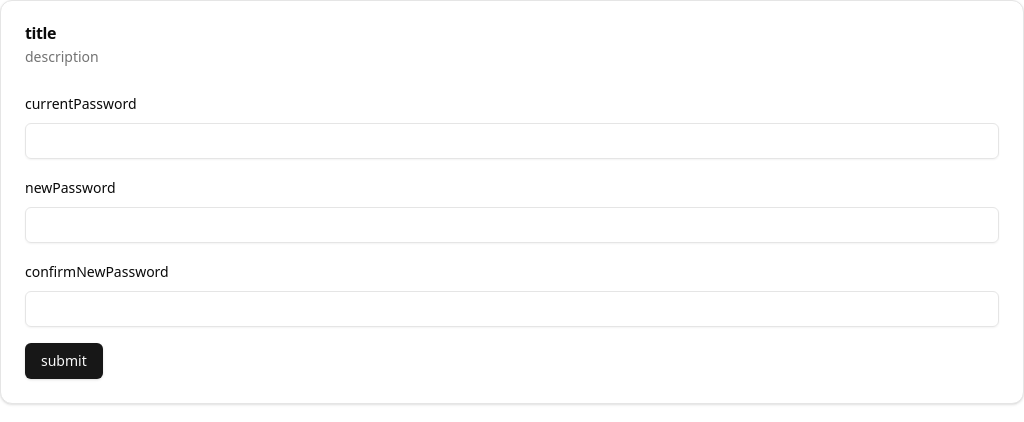
Test: PasswordForm › disables submit button while loading
Type "OldPass1!" into the password field labelled "currentPassword" at (512, 141), box [25,123,999,159]
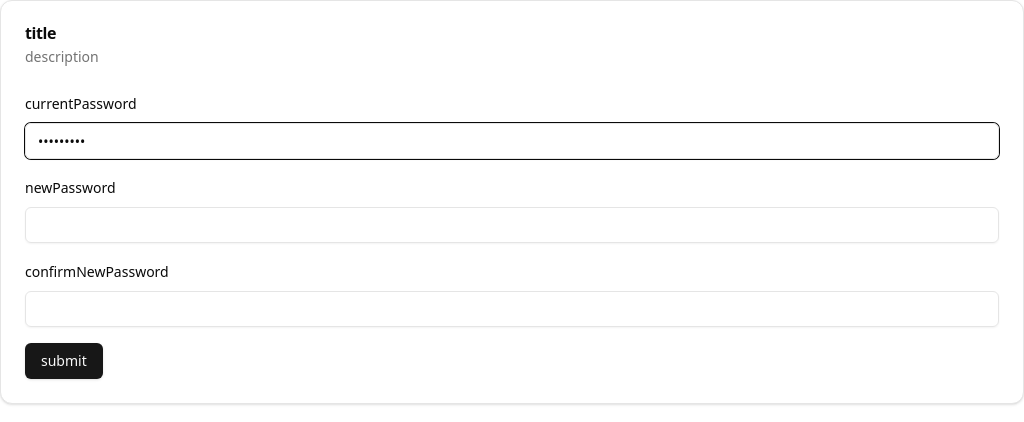
Type "NewPass1!" into the password field labelled "newPassword" at (512, 225), box [25,207,999,243]
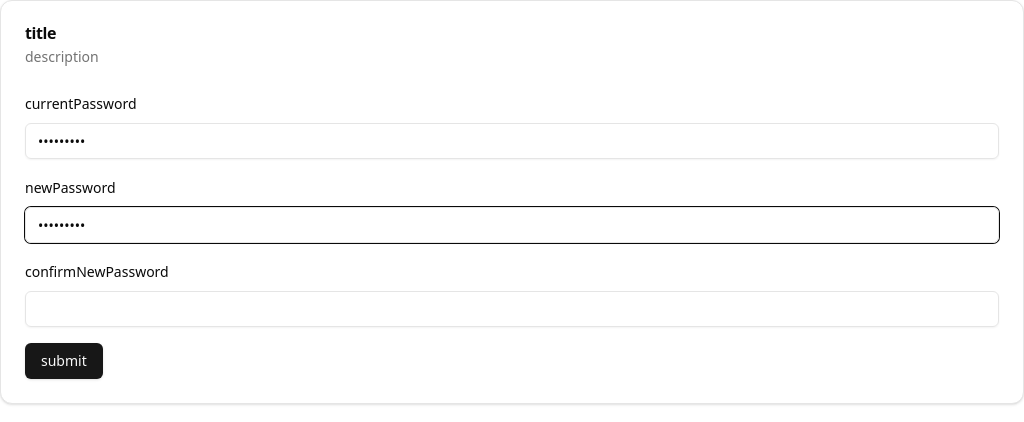
Type "NewPass1!" into the password field labelled "confirmNewPassword" at (512, 309), box [25,291,999,327]
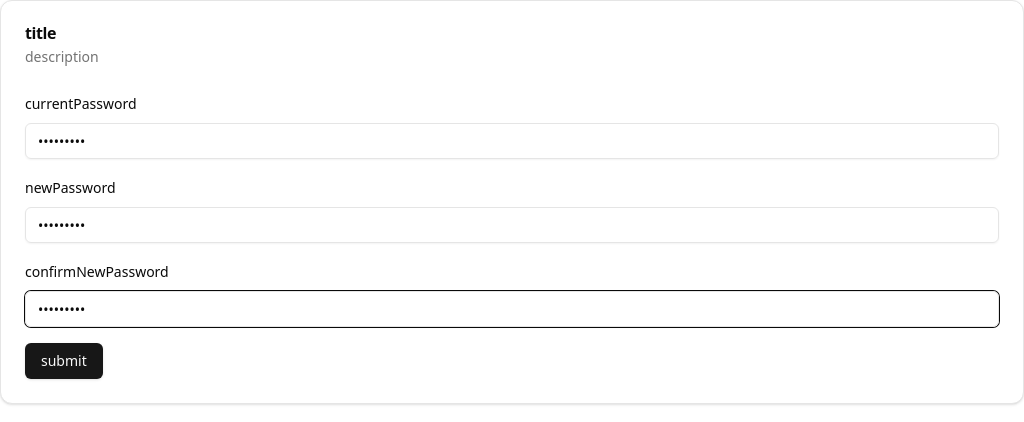
Click the button "submit" at (64, 361), box [25,343,103,379]
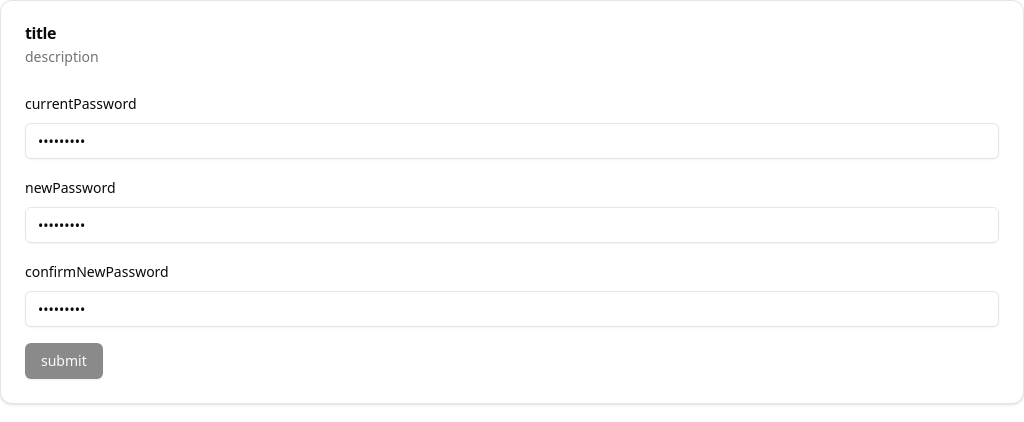
Now the button "submit" is disabled, box [25,343,103,379]
